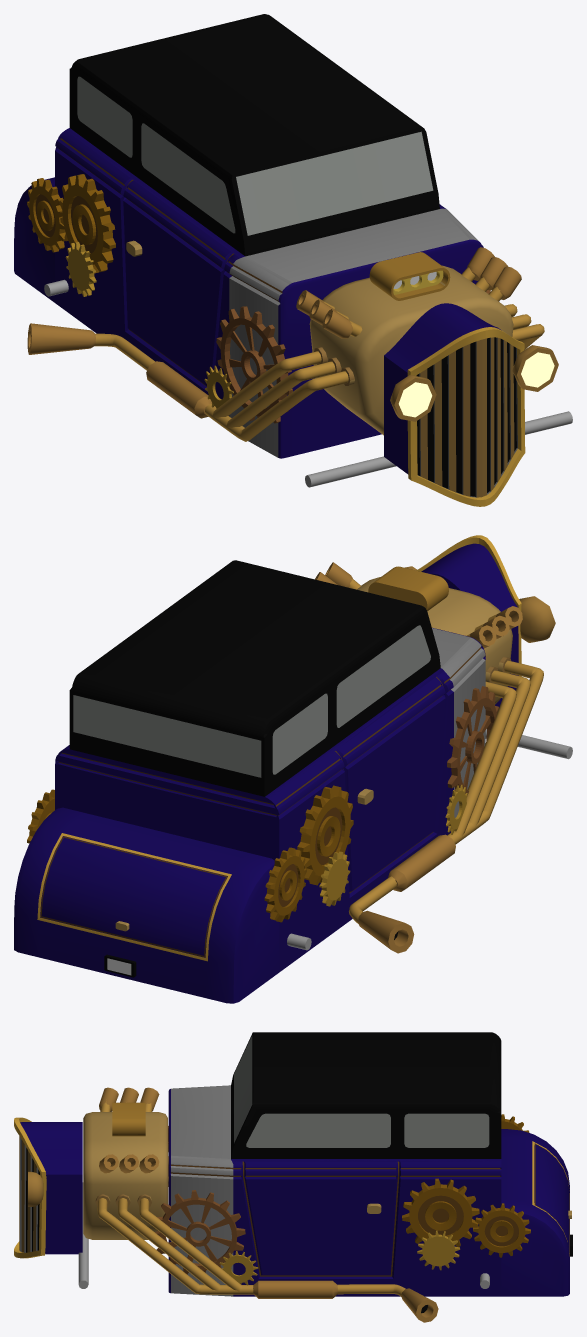
The model's file is hotrod-car-body2.fbx.
The picture shows the model from 3 angles, top to bottom: view 1: azimuth 30°, elevation 25°; view 2: azimuth 150°, elevation 25°; view 3: azimuth 270°, elevation 25°; orthographic projection. The views are drawn at different scales.
Visible parts, largest first — view 1: car-body, fender, engine, pipes, pipe-add-ons, side-cog-back.002, side-cog-front, headlights, engine-top, side-cog-back.001, front-wheels-connector, side-cog-back (+1 smaller); view 2: car-body, pipes, pipe-add-ons, fender, side-cog-back.002, engine, side-cog-back.001, side-cog-front, engine-top, headlights, side-cog-back, front-wheels-connector (+2 smaller); view 3: car-body, fender, engine, pipes, pipe-add-ons, side-cog-back.002, side-cog-front, side-cog-back.001, engine-top, side-cog-back, side-cog-front.001, front-wheels-connector (+1 smaller).
Boxes of the visible parts, <box> form: car-body: <box>14,14,483,458</box>; fender: <box>384,303,525,506</box>; engine: <box>309,265,513,435</box>; pipes: <box>94,267,544,441</box>; pipe-add-ons: <box>27,247,521,418</box>; side-cog-back.002: <box>59,174,115,273</box>; side-cog-front: <box>216,290,490,423</box>; headlights: <box>390,345,558,421</box>; engine-top: <box>369,252,450,300</box>; side-cog-back.001: <box>27,178,65,252</box>; front-wheels-connector: <box>305,411,572,487</box>; side-cog-back: <box>65,241,96,296</box>; car-body: <box>14,560,485,1003</box>; pipes: <box>349,579,543,923</box>; pipe-add-ons: <box>315,562,522,953</box>; fender: <box>416,535,521,707</box>; side-cog-back.002: <box>297,785,353,885</box>; engine: <box>357,577,512,704</box>; side-cog-back.001: <box>27,789,306,922</box>; side-cog-front: <box>447,686,498,794</box>; engine-top: <box>368,566,448,610</box>; headlights: <box>405,566,555,642</box>; side-cog-back: <box>319,851,350,906</box>; front-wheels-connector: <box>485,729,572,759</box>; car-body: <box>168,1032,569,1296</box>; fender: <box>14,1117,82,1258</box>; engine: <box>83,1112,168,1239</box>; pipes: <box>97,1099,405,1296</box>; pipe-add-ons: <box>99,1087,438,1322</box>; side-cog-back.002: <box>402,1178,479,1246</box>; side-cog-front: <box>155,1126,245,1274</box>; side-cog-back.001: <box>473,1114,530,1257</box>; engine-top: <box>112,1102,145,1136</box>; side-cog-back: <box>417,1230,460,1270</box>; side-cog-front.001: <box>219,1251,258,1285</box>; front-wheels-connector: <box>78,1182,88,1288</box>.
Bounding box in the file's own units: 373 × 227 × 615.
